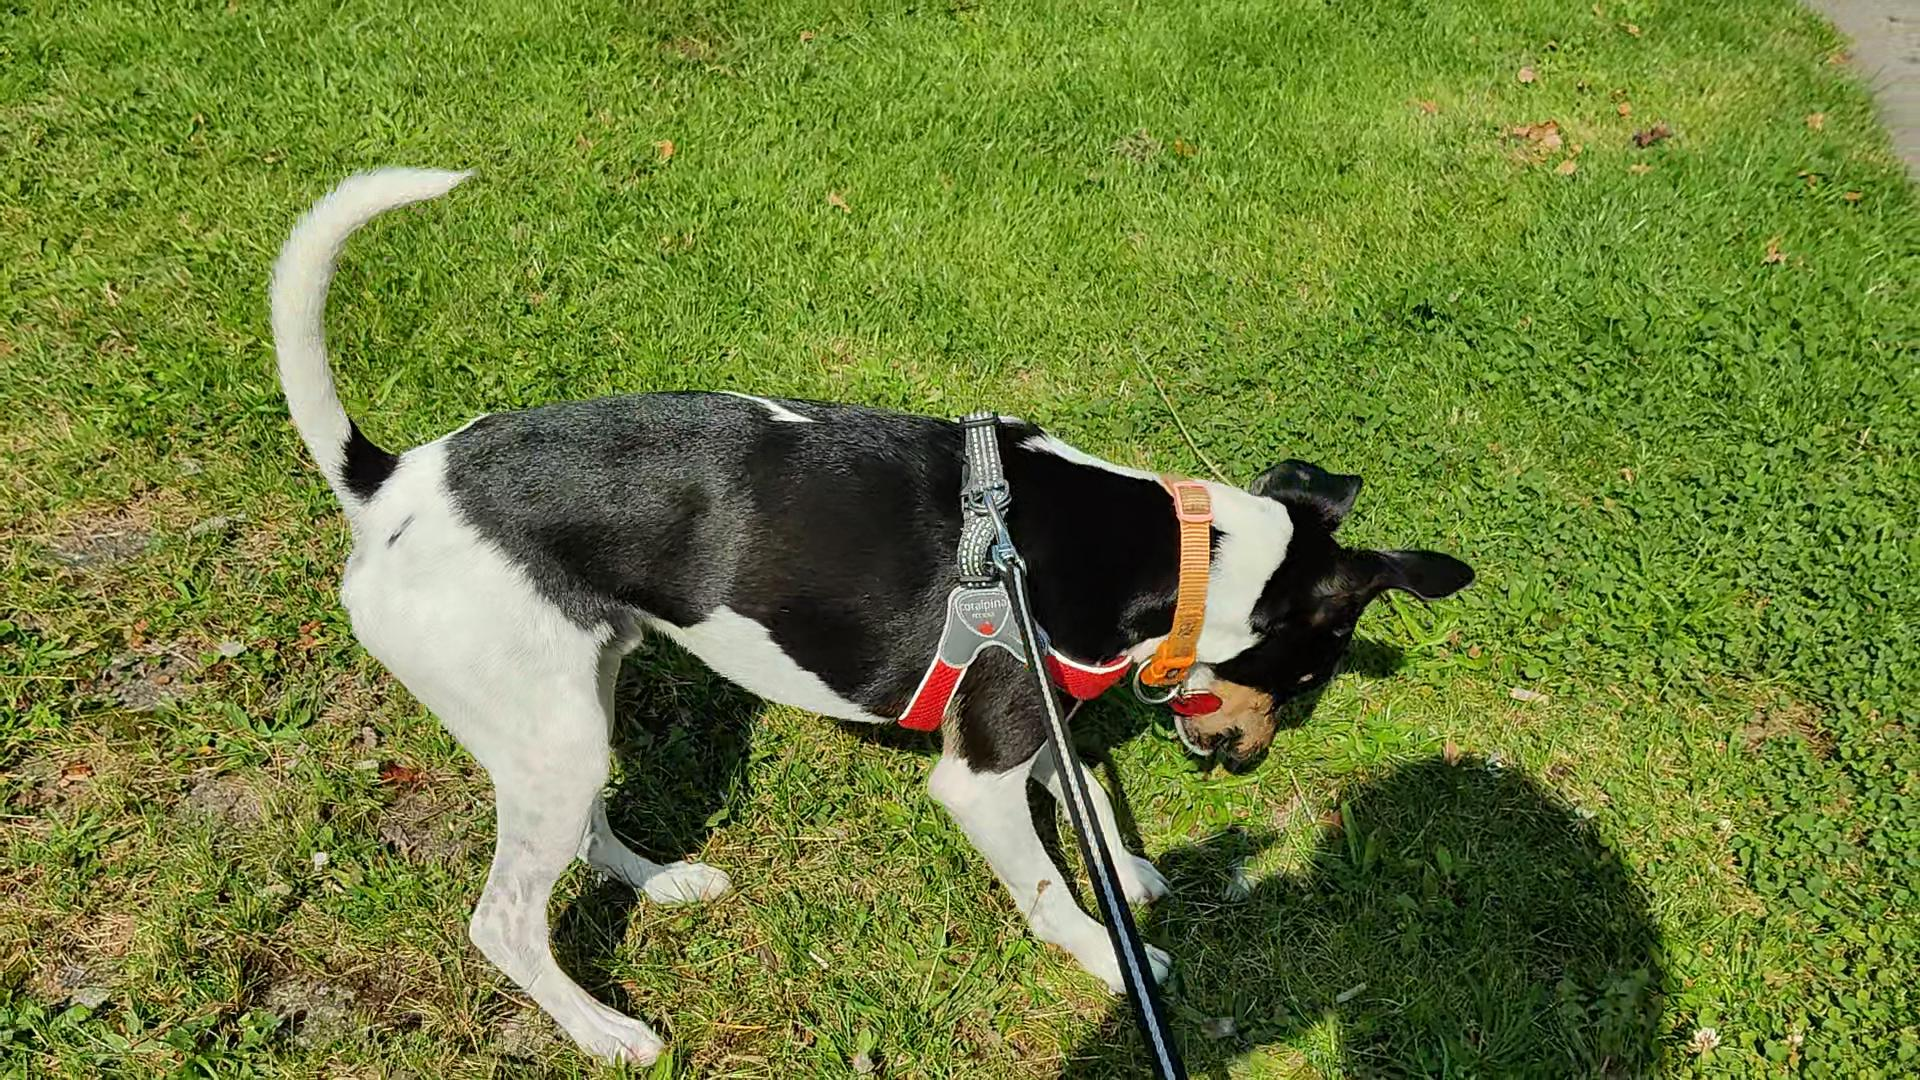Dog: (262, 154, 1474, 1069)
